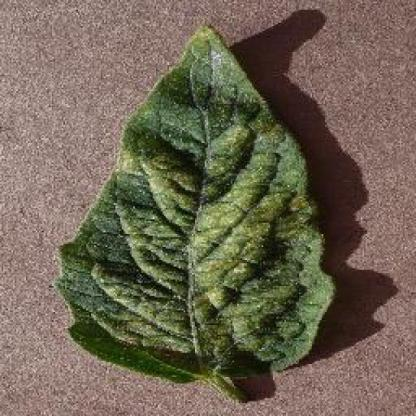Tomato_Spider_Mites: (62, 24, 336, 378)
